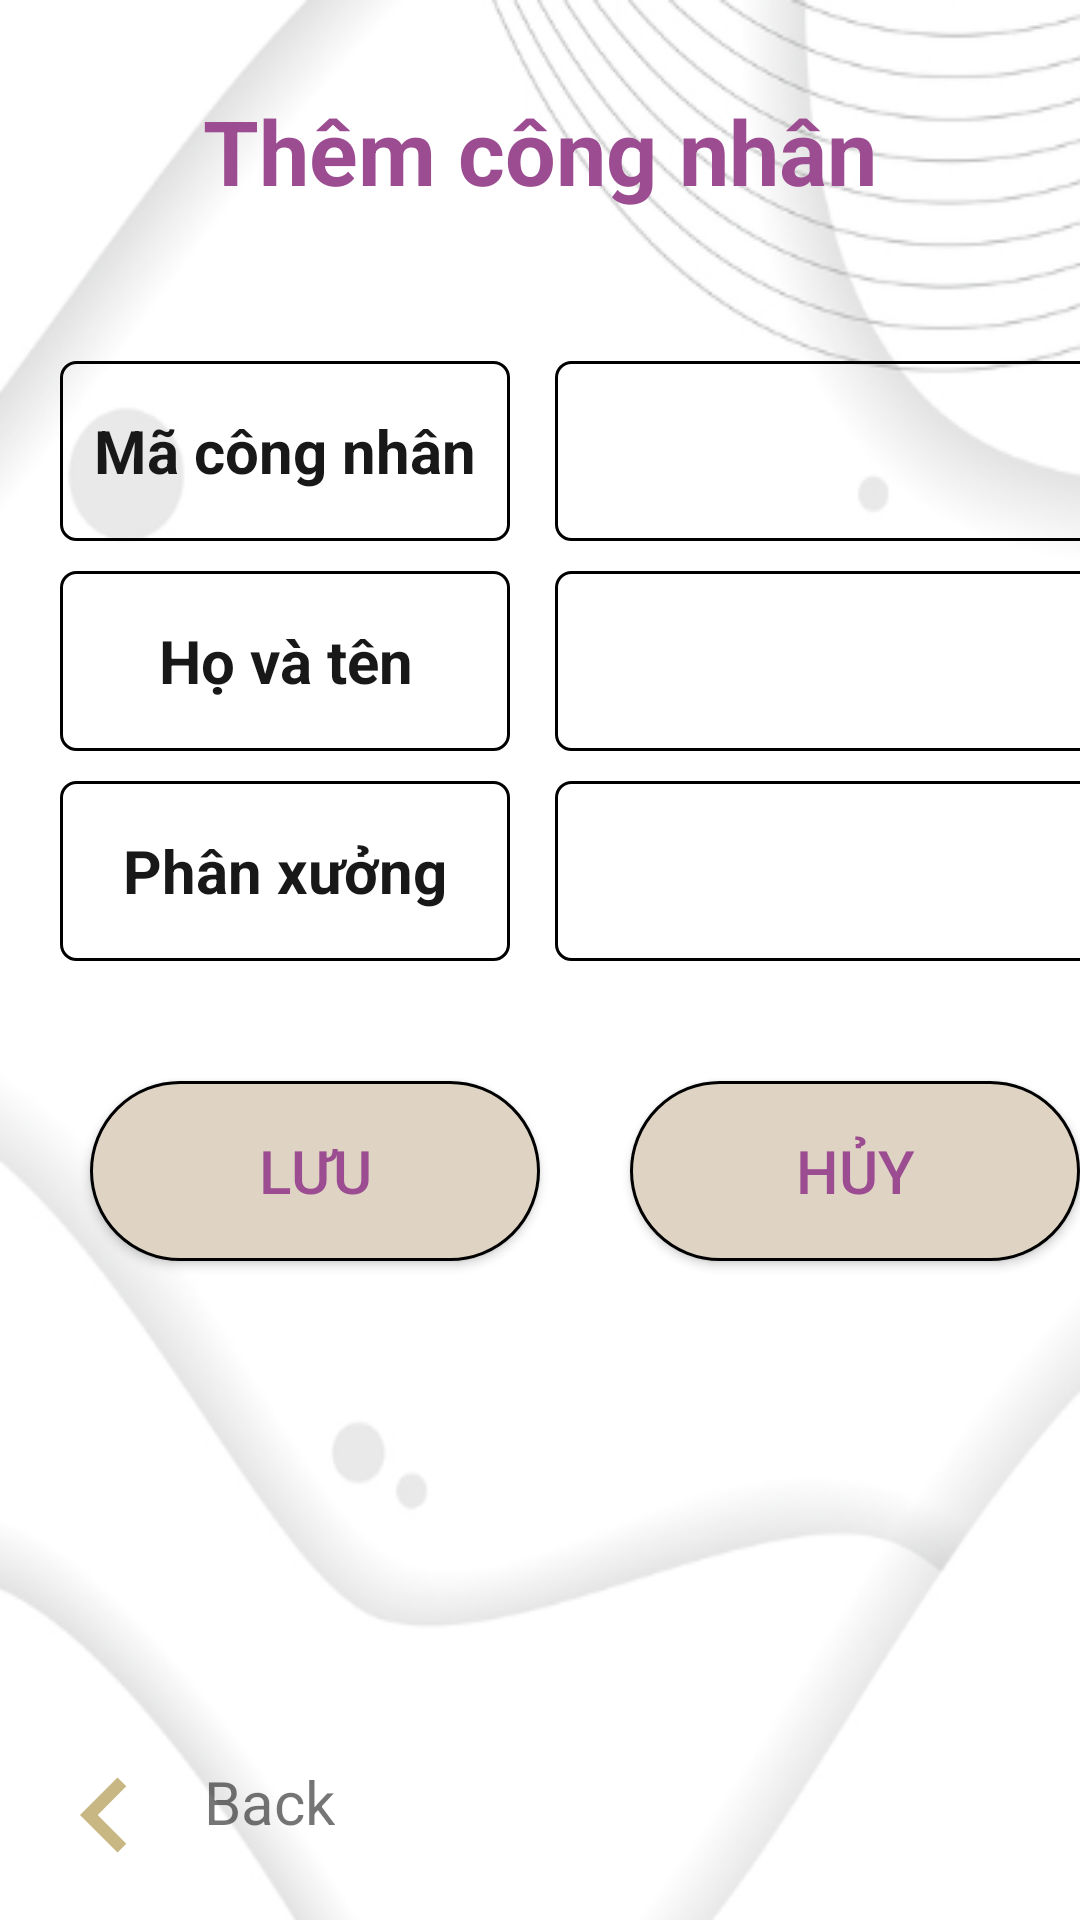

Point at icon controls on the screen. Image size 1080w x 1920h, points as point (x, y).
chevron left: point (103, 1815)
